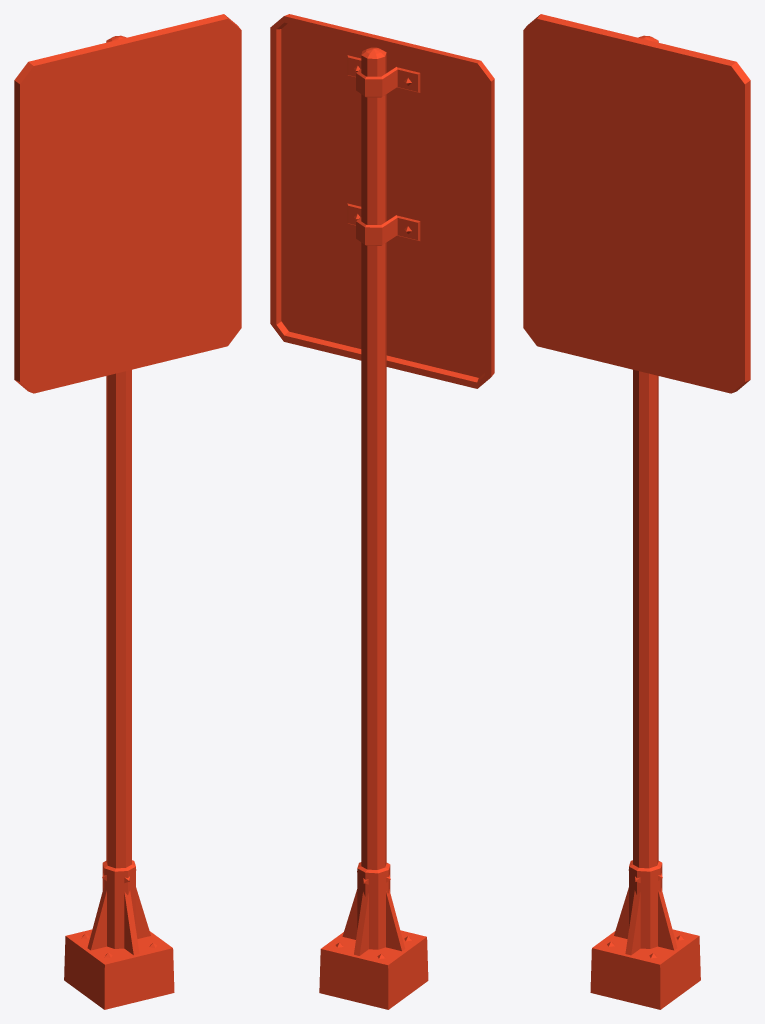
File: SM_Sign_Speed_35_B_City.fbx
3 renders of one model, left to right at view 1: azimuth 30°, elevation 25°; view 2: azimuth 150°, elevation 25°; view 3: azimuth 330°, elevation 25°, orthographic.
Parts seen in each view (by area): view 1: SM_Sign_Speed_35_B_City; view 2: SM_Sign_Speed_35_B_City; view 3: SM_Sign_Speed_35_B_City.
Part boxes in pixels (x1,y1,x2,y2): SM_Sign_Speed_35_B_City: (14,14,241,1009); SM_Sign_Speed_35_B_City: (270,14,494,1009); SM_Sign_Speed_35_B_City: (523,14,750,1009).
Bounding box in the file's own units: 0.5876 × 2.39 × 0.1839.
